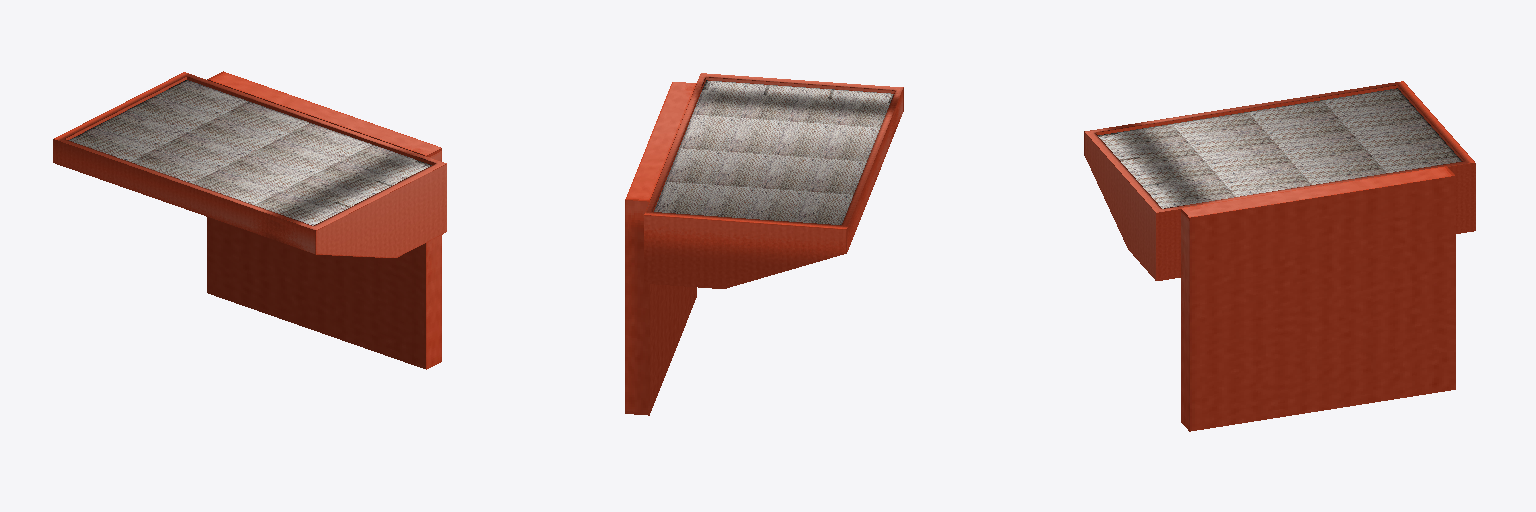
3 renders of one model, left to right at view 1: azimuth 30°, elevation 25°; view 2: azimuth 150°, elevation 25°; view 3: azimuth 270°, elevation 25°, orthographic.
Bounding box in the file's own units: 4.05 × 2.94 × 4.86.
1 materials, 1 textured.